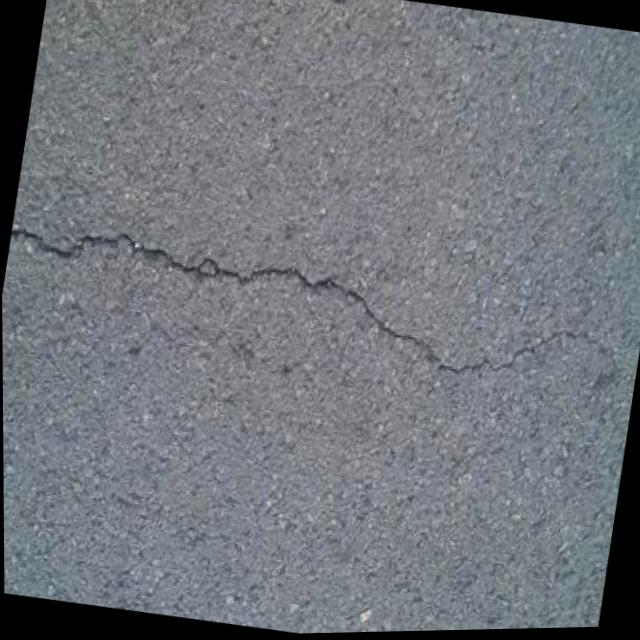Crack: (1, 177, 622, 451)
